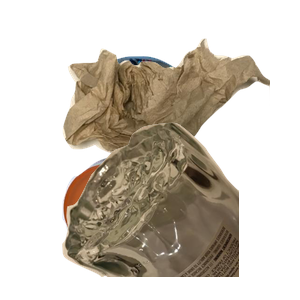glass: (60, 120, 300, 300)
metal: (84, 53, 279, 202)
plastic: (60, 152, 237, 300)
trash: (60, 36, 300, 198)
